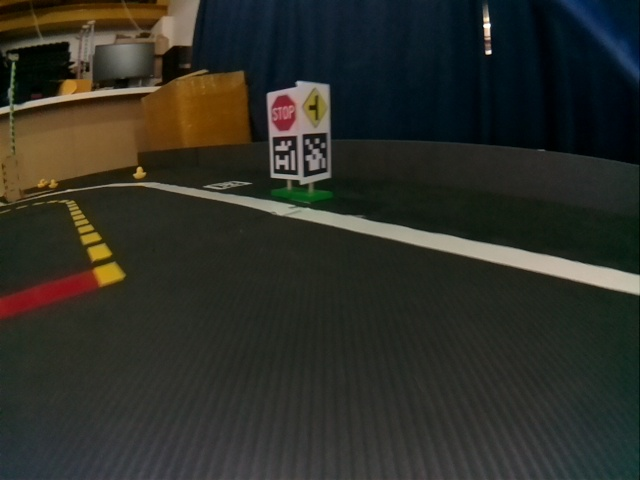Duckie: (134, 167, 146, 176), (49, 178, 58, 188), (37, 179, 46, 188)
Intersection sign: (303, 88, 327, 124)
QR code: (302, 135, 328, 179), (272, 137, 294, 175), (206, 180, 251, 190)
Stop sign: (268, 93, 297, 129)
